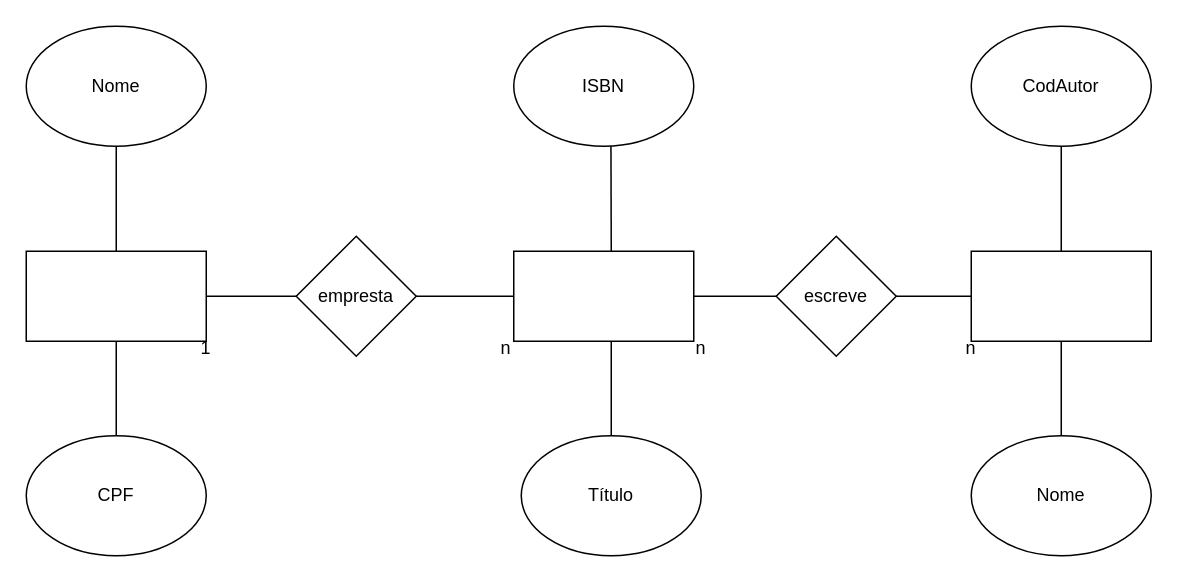
This 1178x582 diagram has some shape labels left out. The shapes that lost their labels are listed below. From the top down, each one's centre as x and y in pixels, then its label:
At (115,295): "Leitor".
At (603,295): "Livro".
At (1060,295): "Autor".
